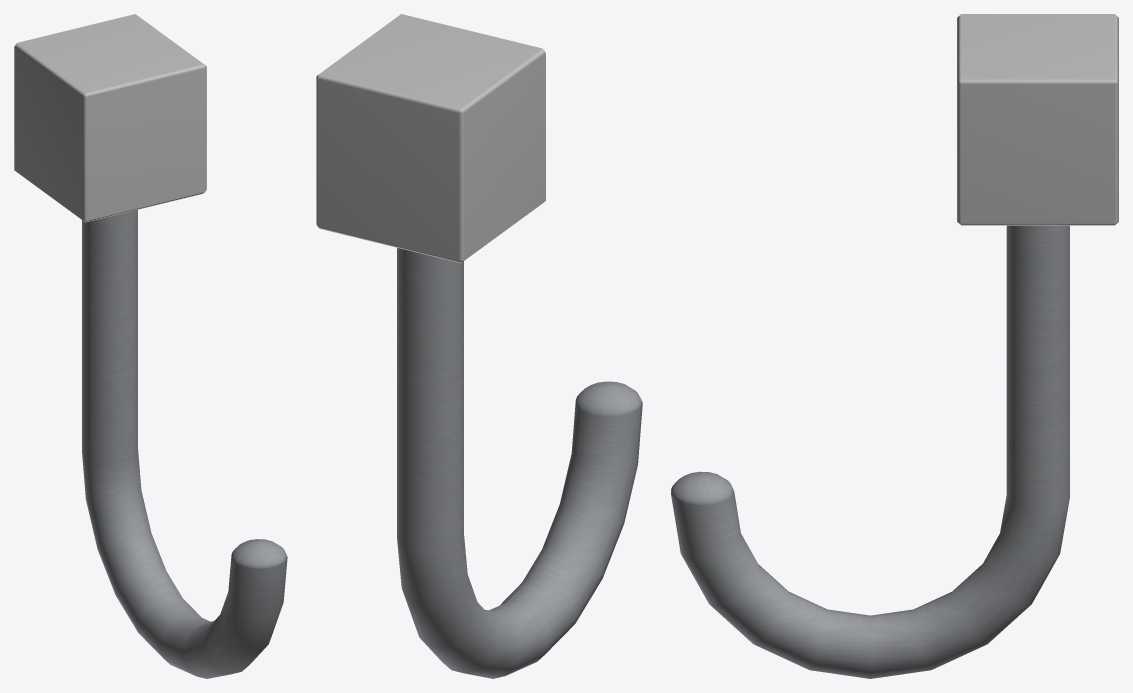
Rendered from hook.fbx.
The picture shows the model from 3 angles, left to right: view 1: azimuth 30°, elevation 25°; view 2: azimuth 150°, elevation 25°; view 3: azimuth 270°, elevation 25°; orthographic projection. The views are drawn at different scales.
Visible parts, largest first — view 1: pTorus1, pCube3; view 2: pTorus1, pCube3; view 3: pTorus1, pCube3.
Part boxes in pixels (left/top/right/bottom): pTorus1: left=82, top=210, right=287, bottom=678; pCube3: left=14, top=14, right=206, bottom=222; pTorus1: left=397, top=248, right=642, bottom=678; pCube3: left=316, top=14, right=545, bottom=263; pTorus1: left=671, top=225, right=1069, bottom=678; pCube3: left=957, top=14, right=1118, bottom=225.
Bounding box in the file's own units: 2.31 × 9.93 × 6.4.
Materials: 1 (1 with a texture image).
